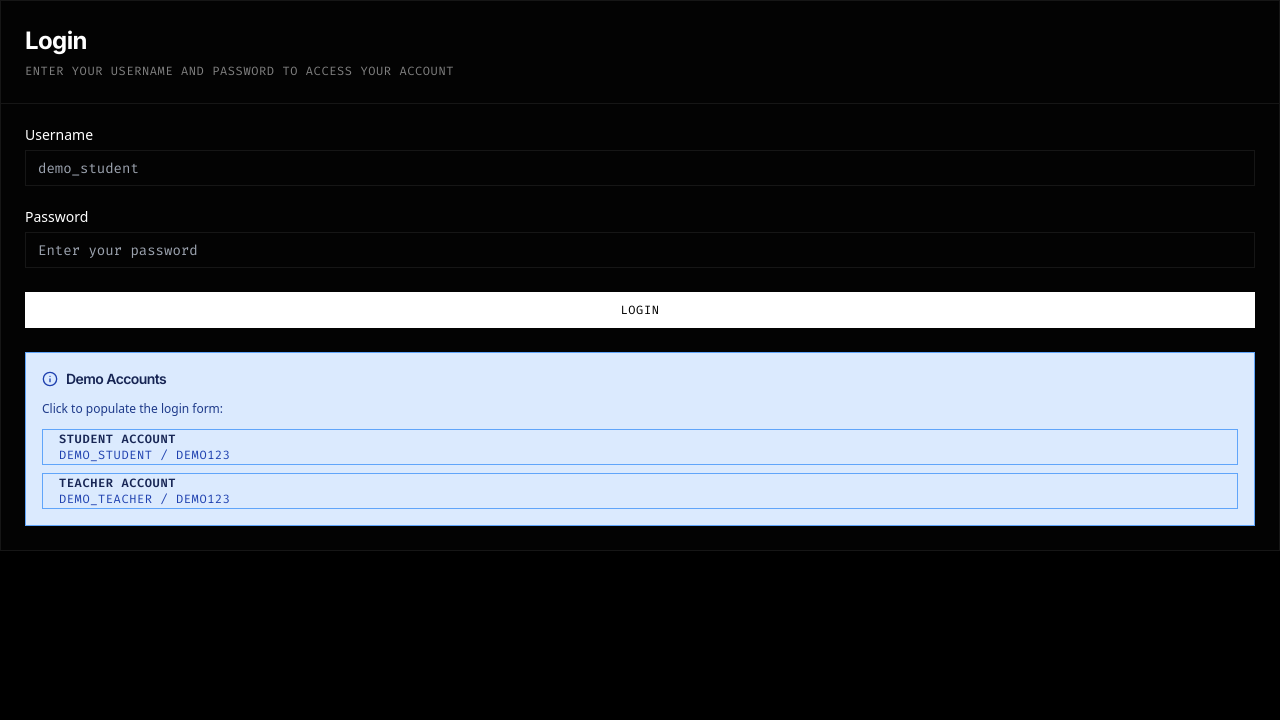
LoginForm › populates form when teacher demo account button is clicked
Click the button with aria-label "use demo teacher credentials": (118, 483) [42, 473, 1238, 509]
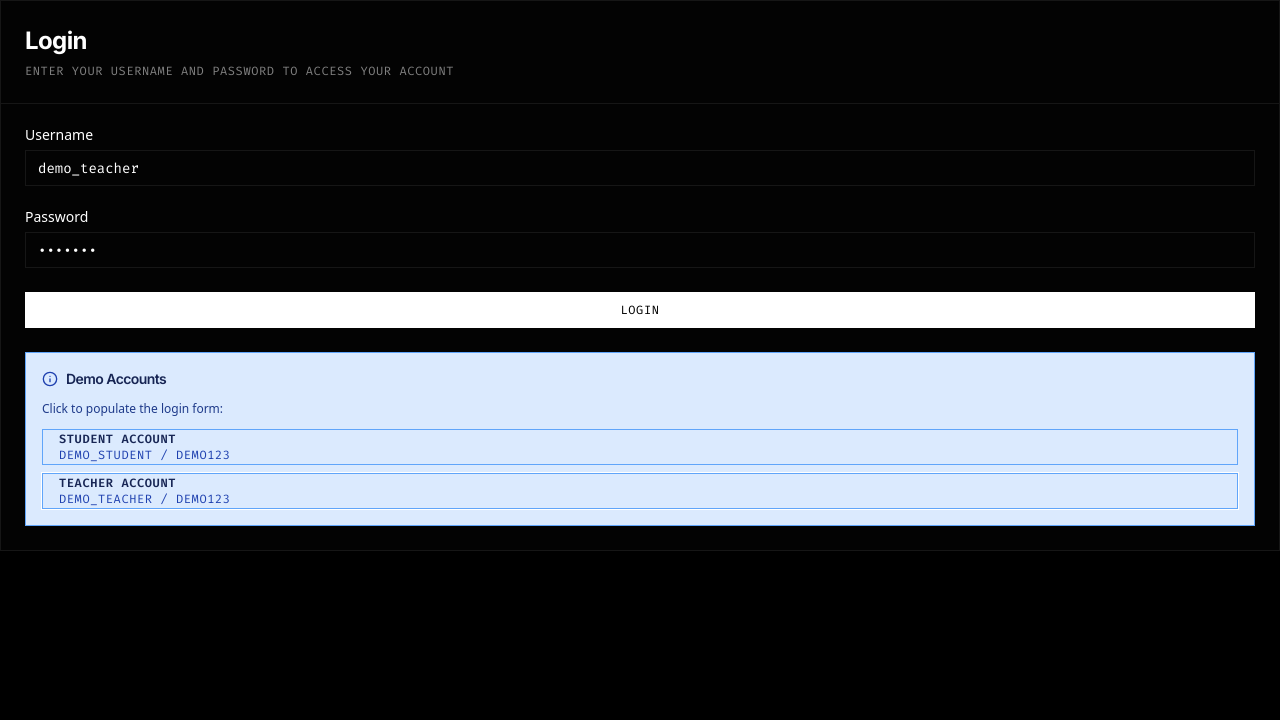
Result: the field labelled "Username" holds "demo_teacher" at [25, 150, 1255, 186]
Result: the password field labelled "Password" holds "demo123" at [25, 232, 1255, 268]
